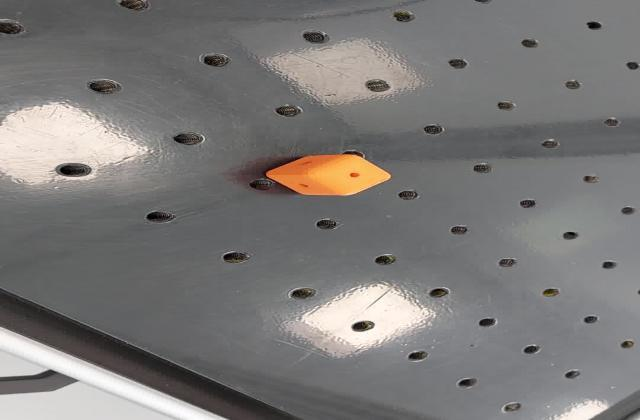cube: (262, 152, 394, 197)
